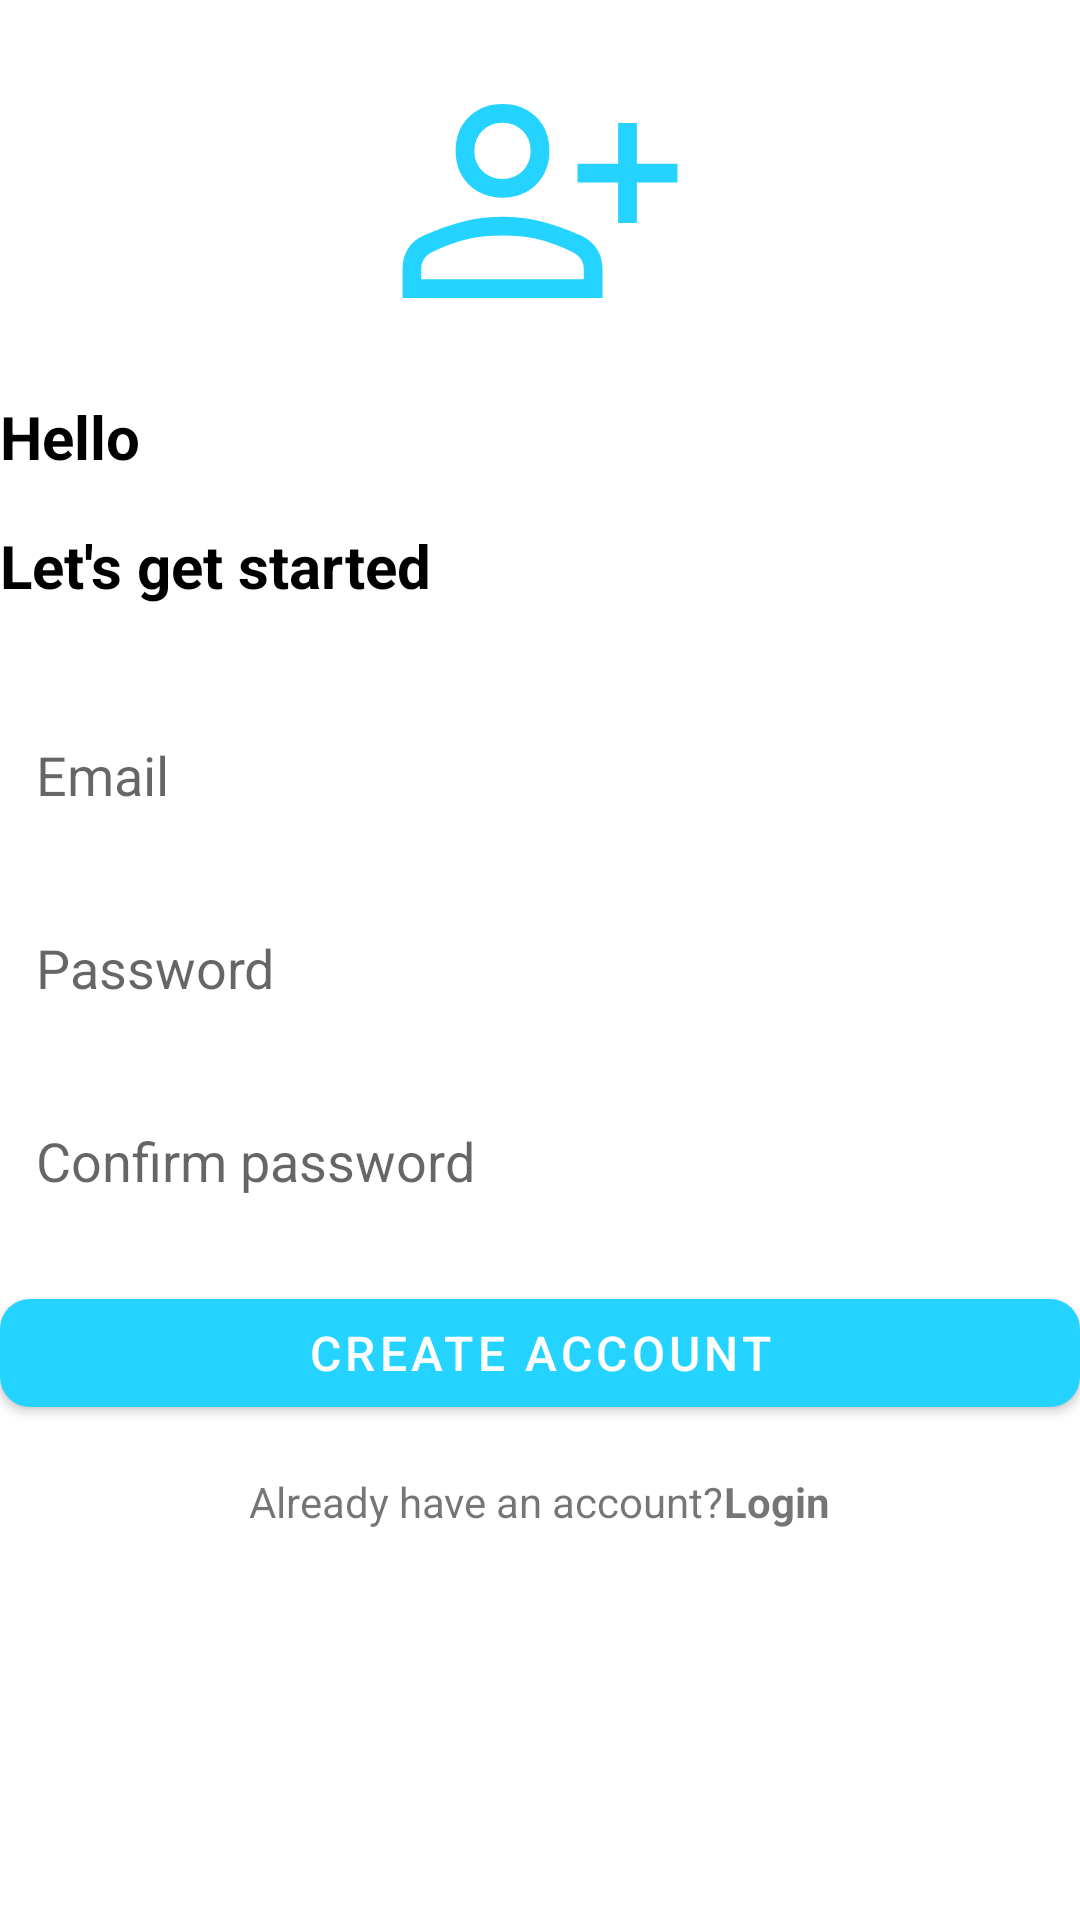

Point at icon controls on the screen. Image size 1080*1920, points as (x=x, y=y).
Add user image: (x=540, y=201)
